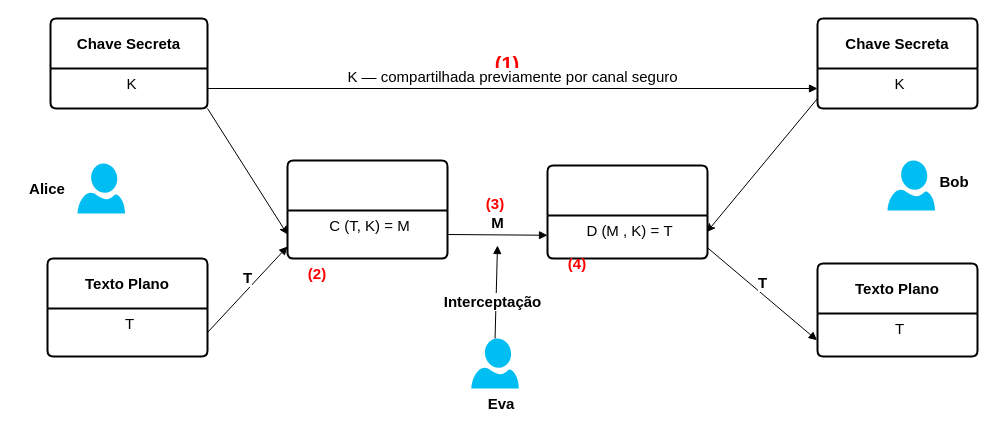
The diagram is 1001 pixels wide and 435 high, and some of its shapes have lost their labels. Here are the shapes that lost their labels. From the top down, the box of each, then its label:
(286, 159, 448, 259): Criptografia
(546, 164, 708, 259): Descriptografia
